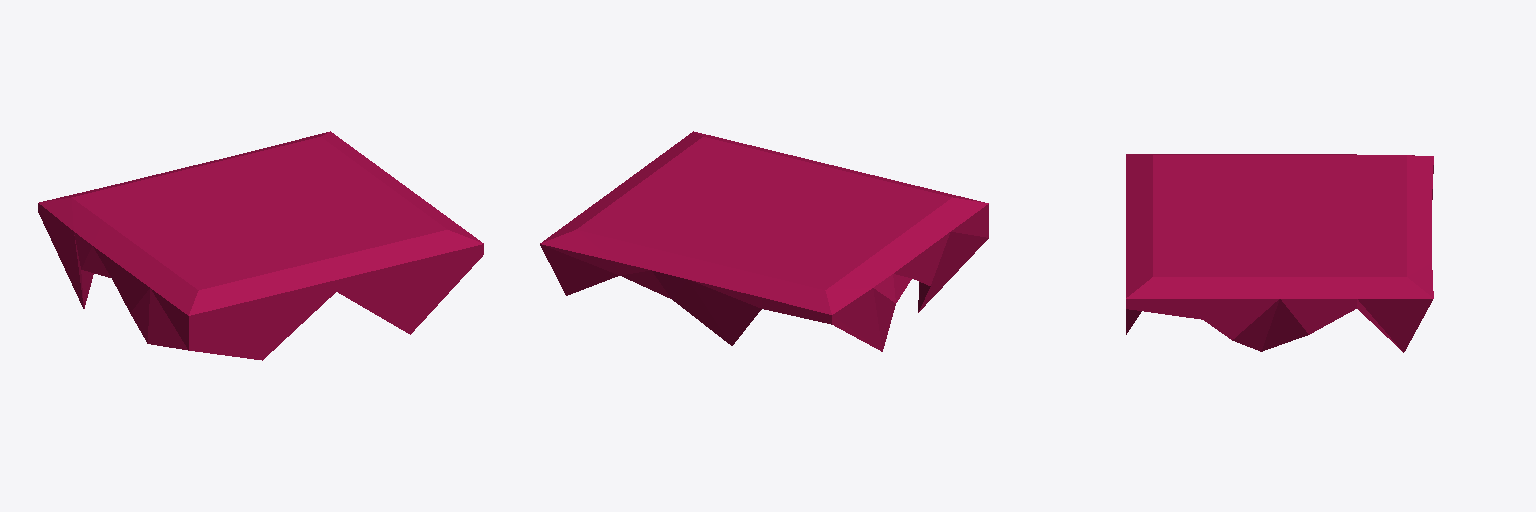
Rendered from Platform_Five_Top_OBJ.obj.
The picture shows the model from 3 angles: view 1: azimuth 30°, elevation 25°; view 2: azimuth 150°, elevation 25°; view 3: azimuth 270°, elevation 25°; orthographic projection.
Visible parts, largest first — view 1: Top; view 2: Top; view 3: Top.
Part boxes in pixels (x1,y1,x2,y2): Top: (38, 131, 483, 360); Top: (540, 131, 988, 351); Top: (1126, 154, 1433, 352).
Size of the model in its own units: 131 by 34.42 by 116.